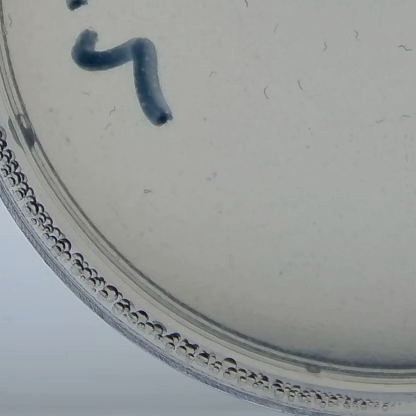worm: (368, 110, 397, 131), (2, 10, 25, 35), (258, 84, 282, 103), (77, 87, 101, 105), (393, 37, 414, 57), (105, 103, 122, 124), (230, 0, 261, 11), (399, 151, 416, 171), (293, 79, 311, 97), (204, 67, 222, 83), (348, 24, 361, 46), (400, 111, 416, 127), (270, 20, 285, 36), (318, 36, 328, 57), (100, 120, 115, 133)
